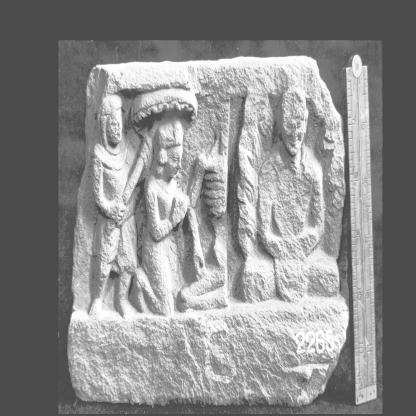buddha-sitting: (242, 88, 340, 302)
